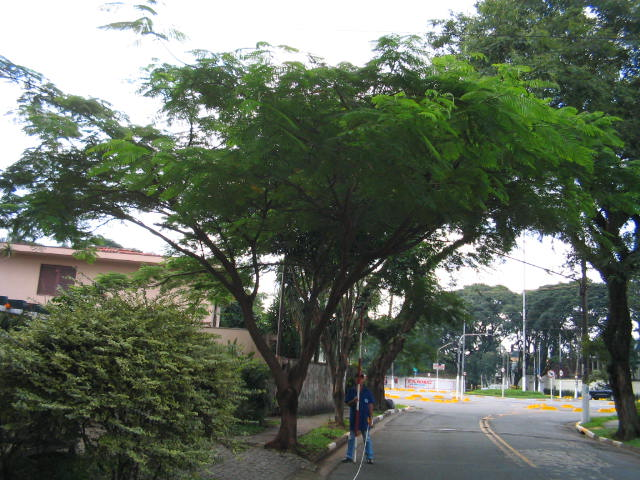crown: (1, 5, 619, 302)
stem: (593, 286, 637, 440), (264, 382, 309, 452)
stick: (348, 309, 368, 461)
tree: (1, 5, 621, 453)
